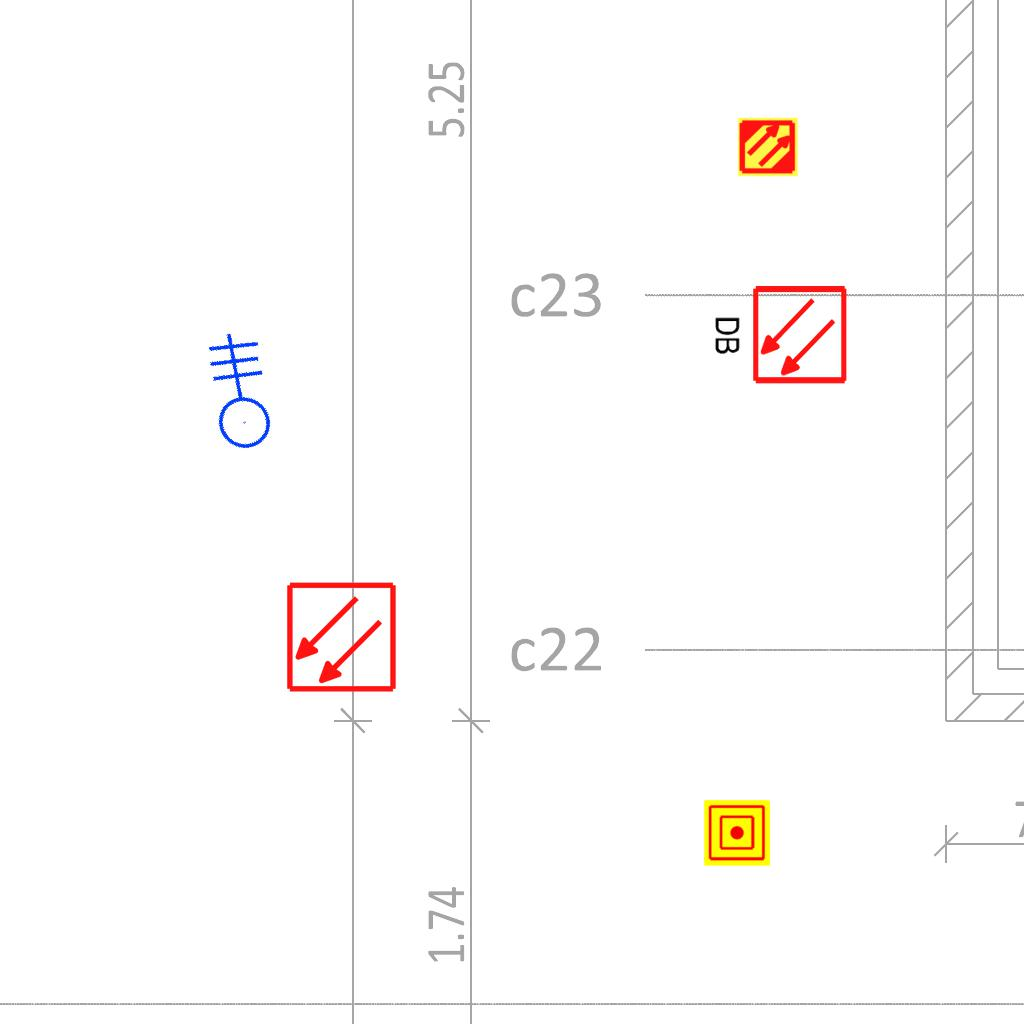ASR_Ansaugrauchmelder: (737, 116, 799, 178)
DB_Melder_in_Doppelboden_mit_Revisionsoeffnung_mind_40_x_40_cm: (705, 279, 854, 393)
Elektroanschluss_allgemein_400V_Geraeteanschlussdose_400V: (150, 312, 310, 473)
NAM-Nichtautomatischer_Melder: (704, 800, 770, 866)
RMO_Rauchmelder_optischer: (285, 581, 398, 694)
